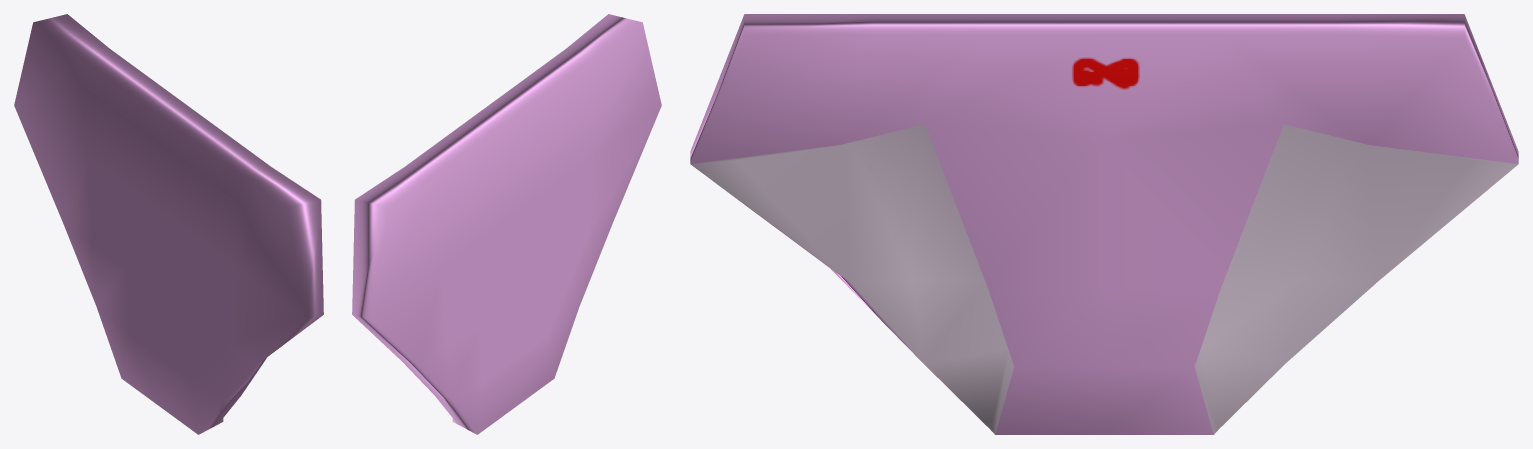
The model's file is panty01.fbx.
3 renders of one model, left to right at view 1: azimuth 30°, elevation 25°; view 2: azimuth 150°, elevation 25°; view 3: azimuth 270°, elevation 25°, orthographic. The views are drawn at different scales.
Parts seen in each view (by area): view 1: Cube; view 2: Cube; view 3: Cube.
Boxes of the visible parts, bbox=[...] form: Cube: bbox=[14, 14, 323, 434]; Cube: bbox=[352, 14, 661, 434]; Cube: bbox=[690, 14, 1518, 434].
Size of the model in its own units: 0.131 by 1.06 by 1.93.
1 material, 1 textured.
